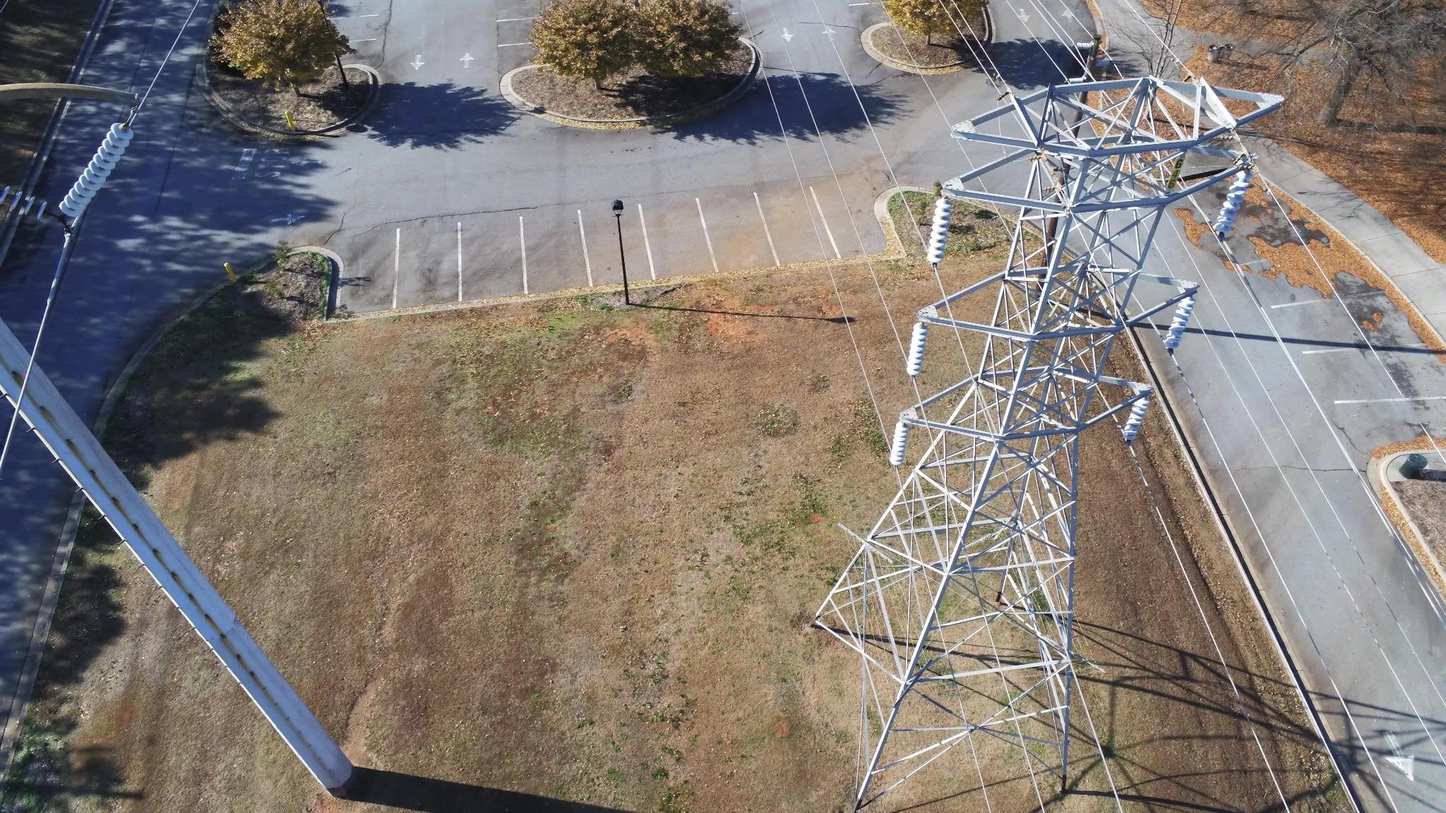tower: (804, 70, 1286, 813)
